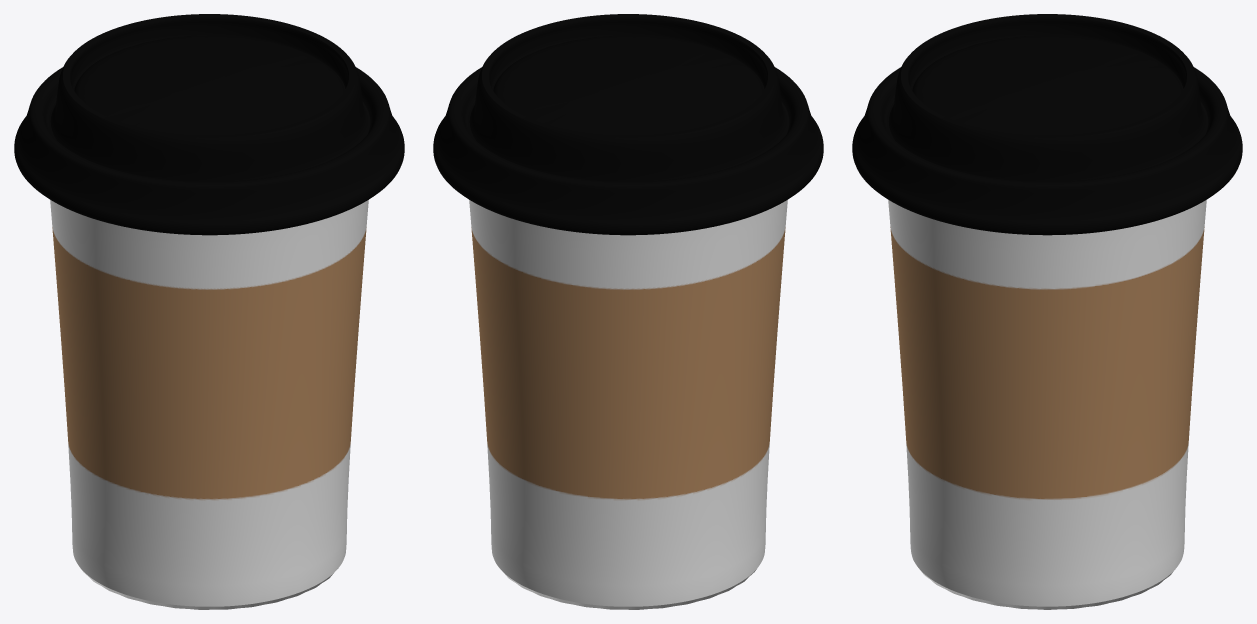
File: asset.glb
3 views of the same model, side by side, from view 1: azimuth 30°, elevation 25°; view 2: azimuth 150°, elevation 25°; view 3: azimuth 270°, elevation 25° (orthographic).
Visible parts, largest first — view 1: Cup; view 2: Cup; view 3: Cup.
Boxes of the visible parts, left/top/right/bottom form: Cup: left=14, top=14, right=404, bottom=609; Cup: left=433, top=14, right=823, bottom=609; Cup: left=852, top=14, right=1242, bottom=609.
Bounding box in the file's own units: 2.34 × 3.18 × 2.34.
1 material, 1 textured.
